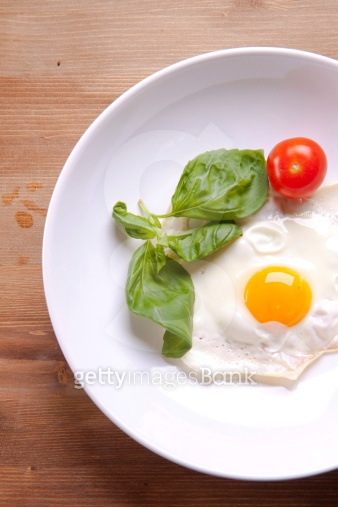fried egg: (192, 208, 336, 392)
